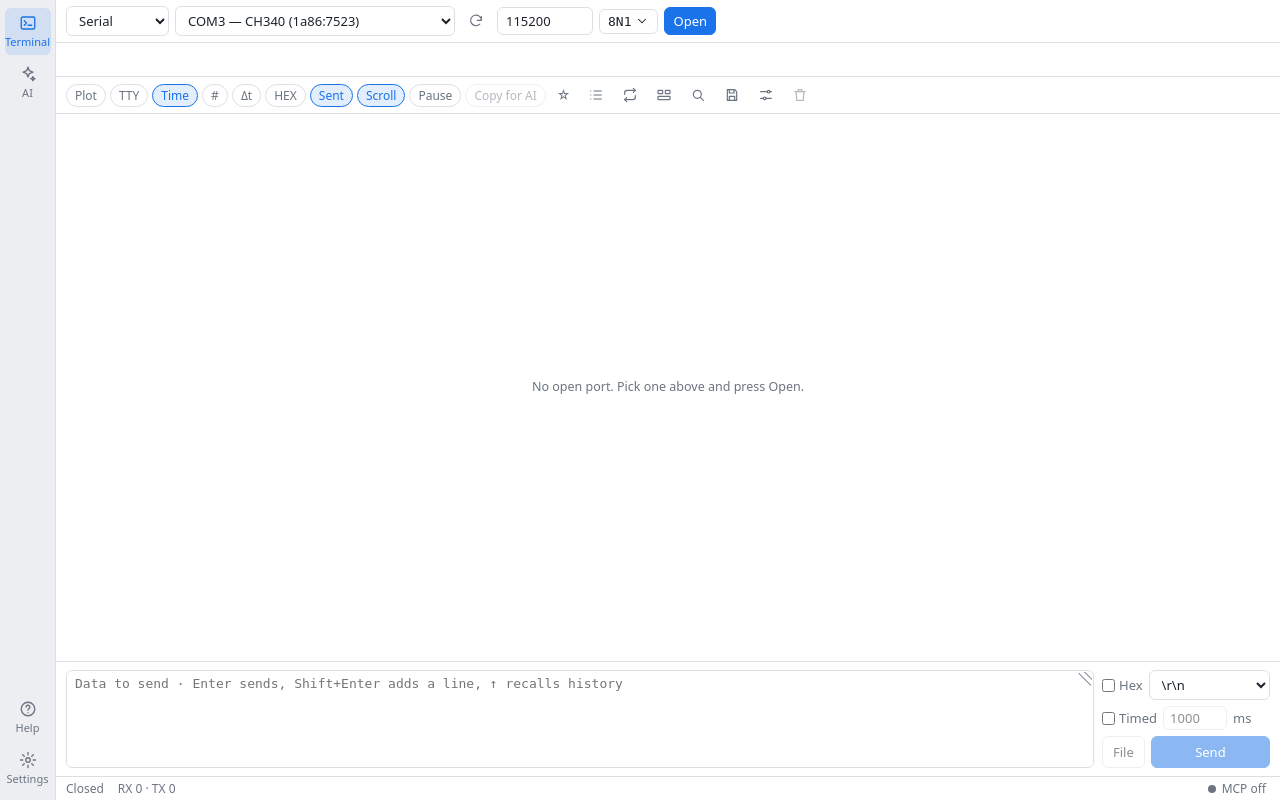
Test case: App › turns auto-reconnect off and on for the selected session
Select "COM3 — CH340 (1a86:7523)" in the dropdown named "Port" at [315, 21], box x1=175 y1=6 x2=455 y2=36
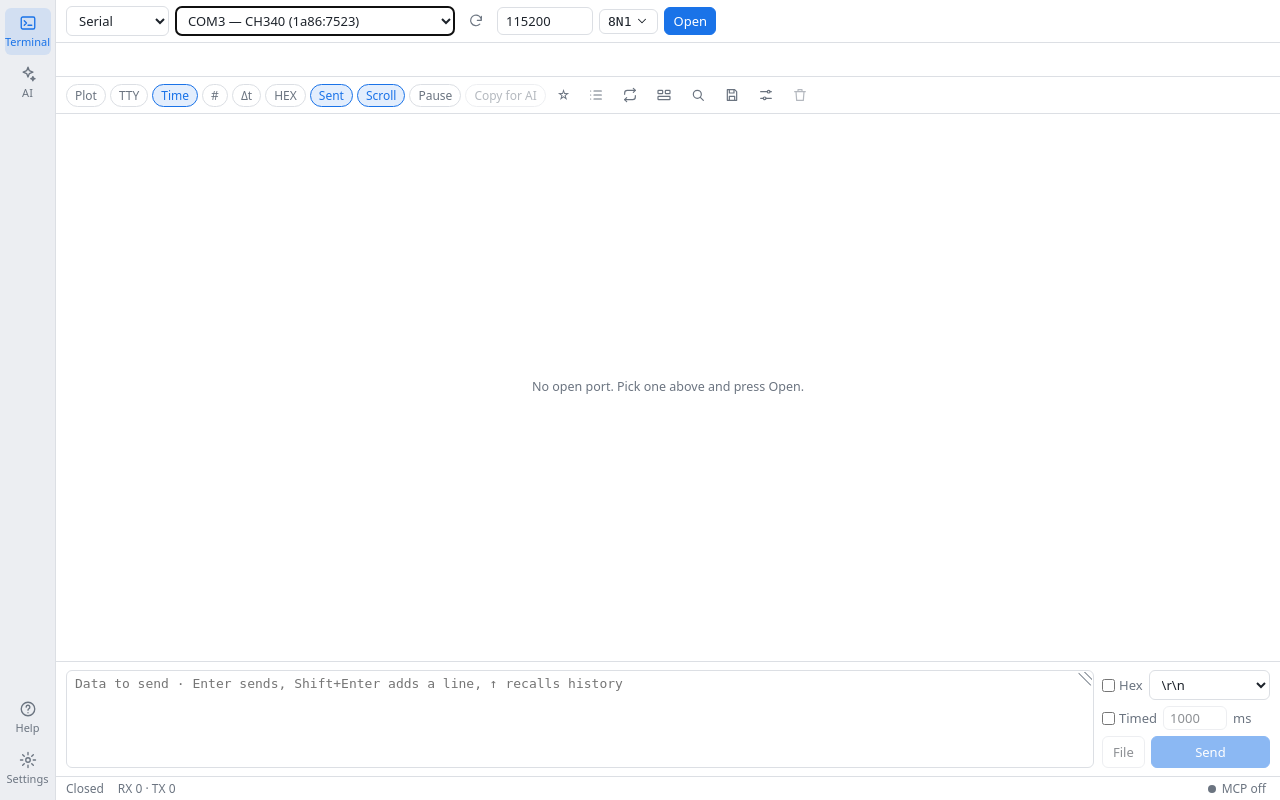
Click the button "Open".
click(690, 21)  # box x1=664 y1=7 x2=716 y2=35
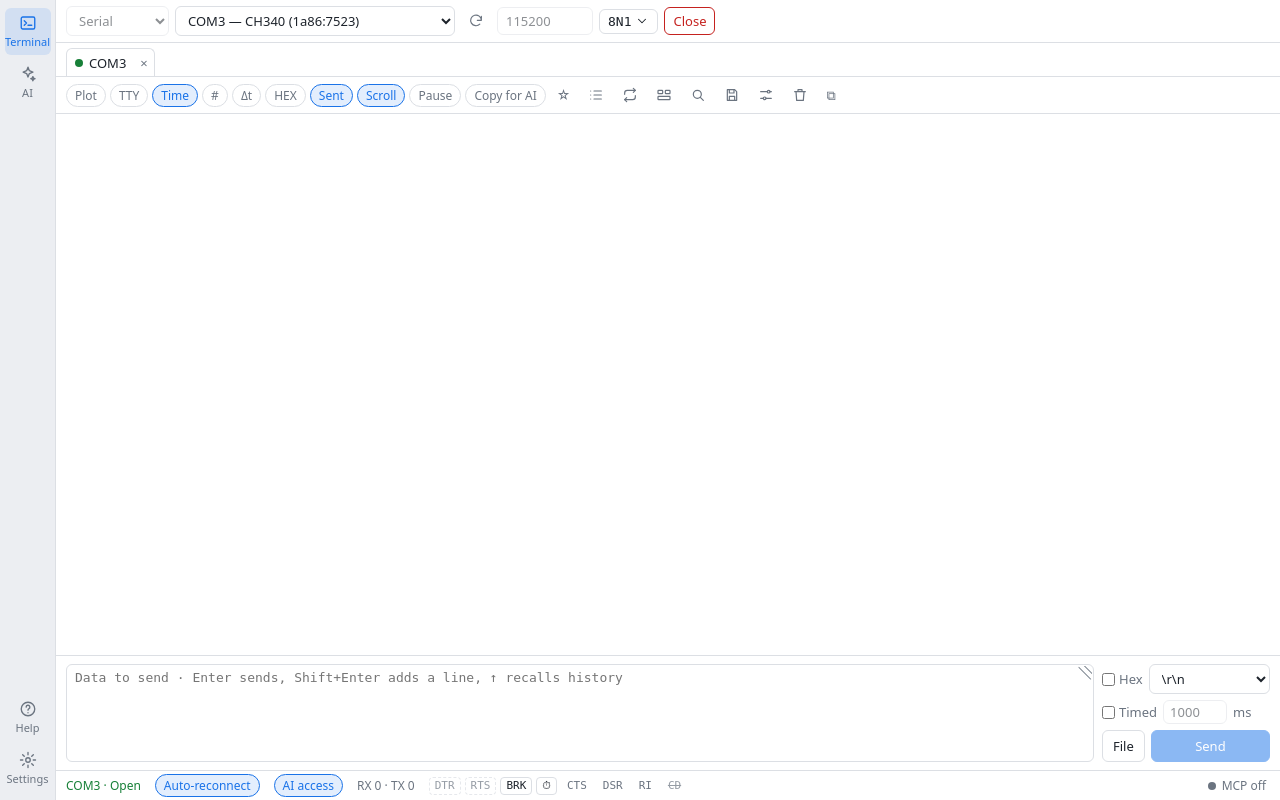
Check: the message shows "COM3 · Open", box x1=56 y1=770 x2=1279 y2=799
Click the button "Auto-reconnect".
click(207, 786)  # box x1=155 y1=774 x2=260 y2=797
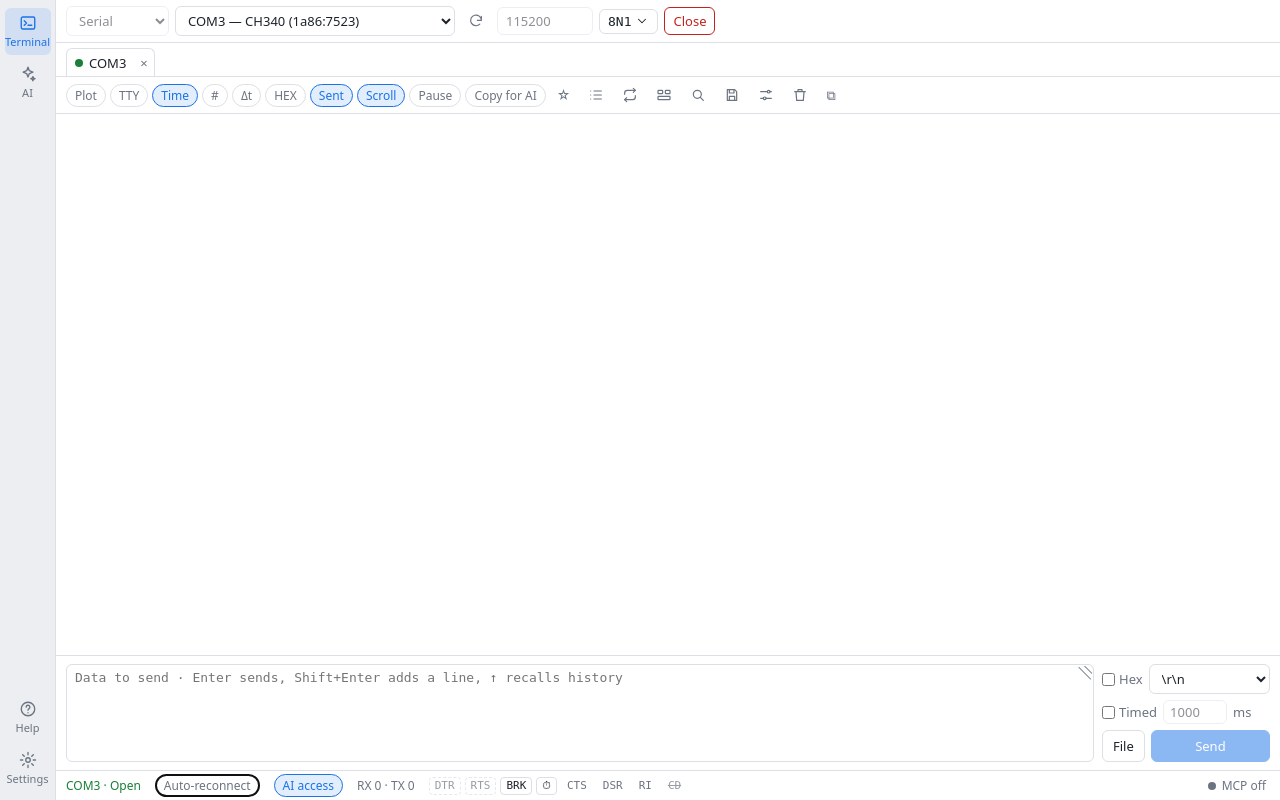
Check: the button "Auto-reconnect" is not pressed
Click the button "Auto-reconnect".
click(207, 786)  # box x1=155 y1=774 x2=260 y2=797
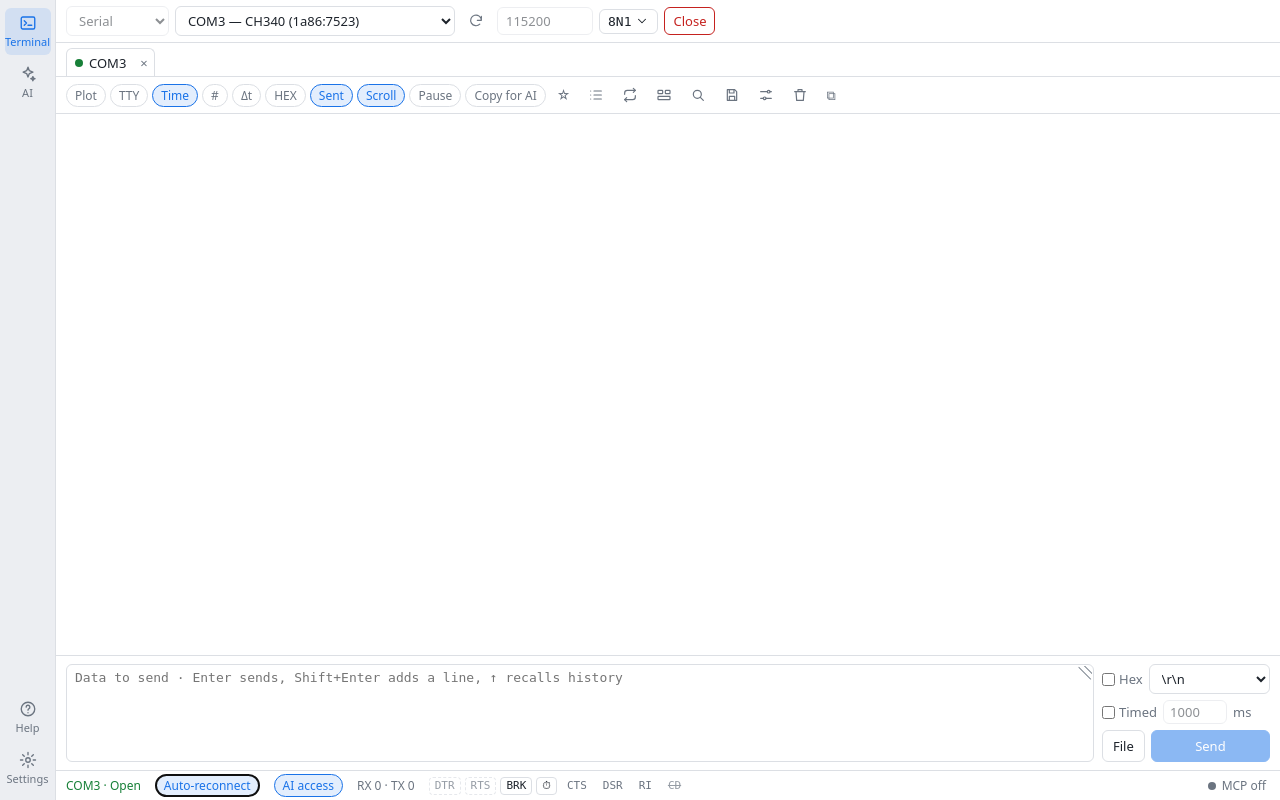
Check: the button "Auto-reconnect" is pressed, box x1=155 y1=774 x2=260 y2=797
Click the button named "Close tab COM3".
click(144, 63)  # box x1=134 y1=52 x2=154 y2=74
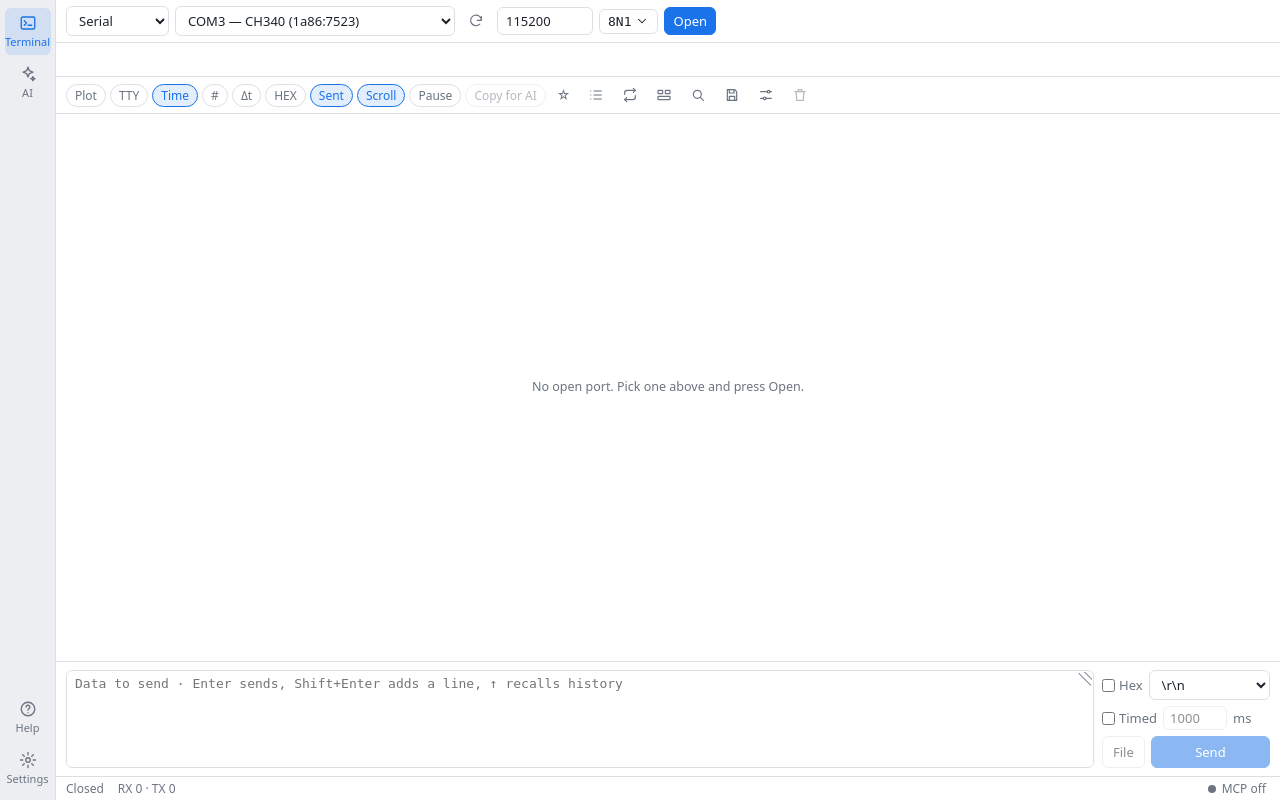
Check: the button "Auto-reconnect" is gone
